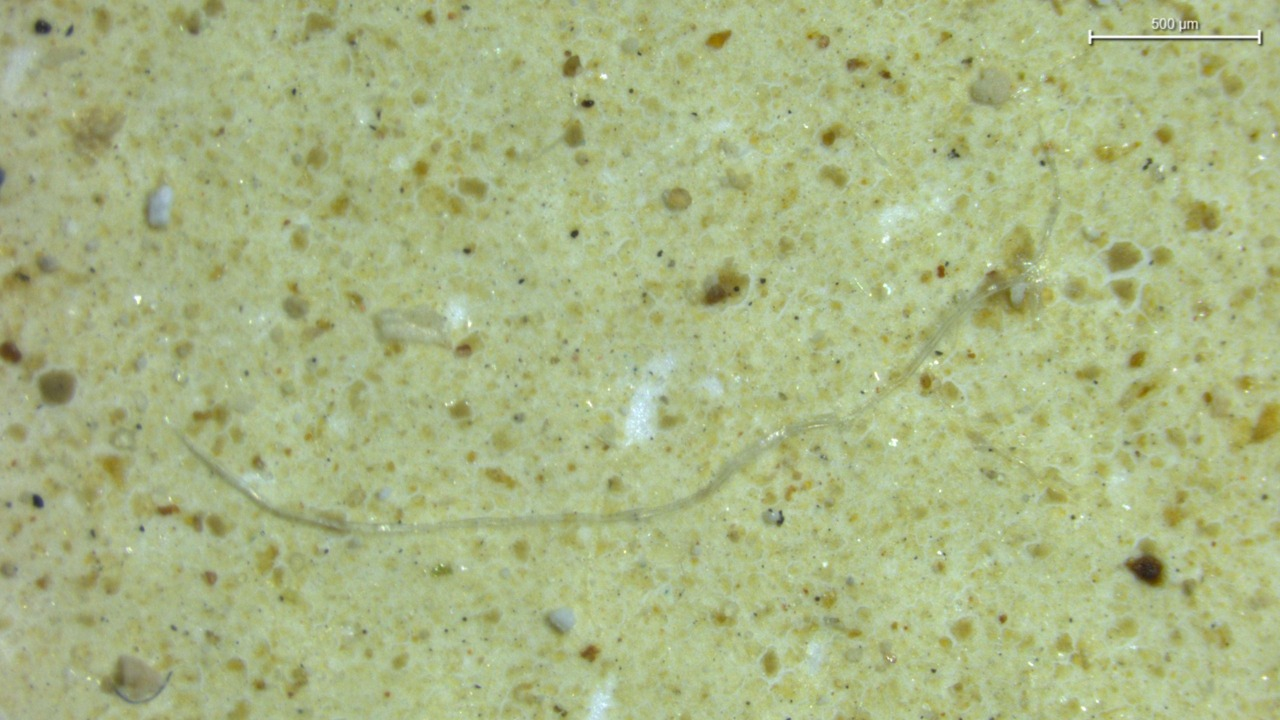microplastic_fragment: (374, 307, 450, 348), (970, 68, 1011, 105), (146, 184, 174, 228)
